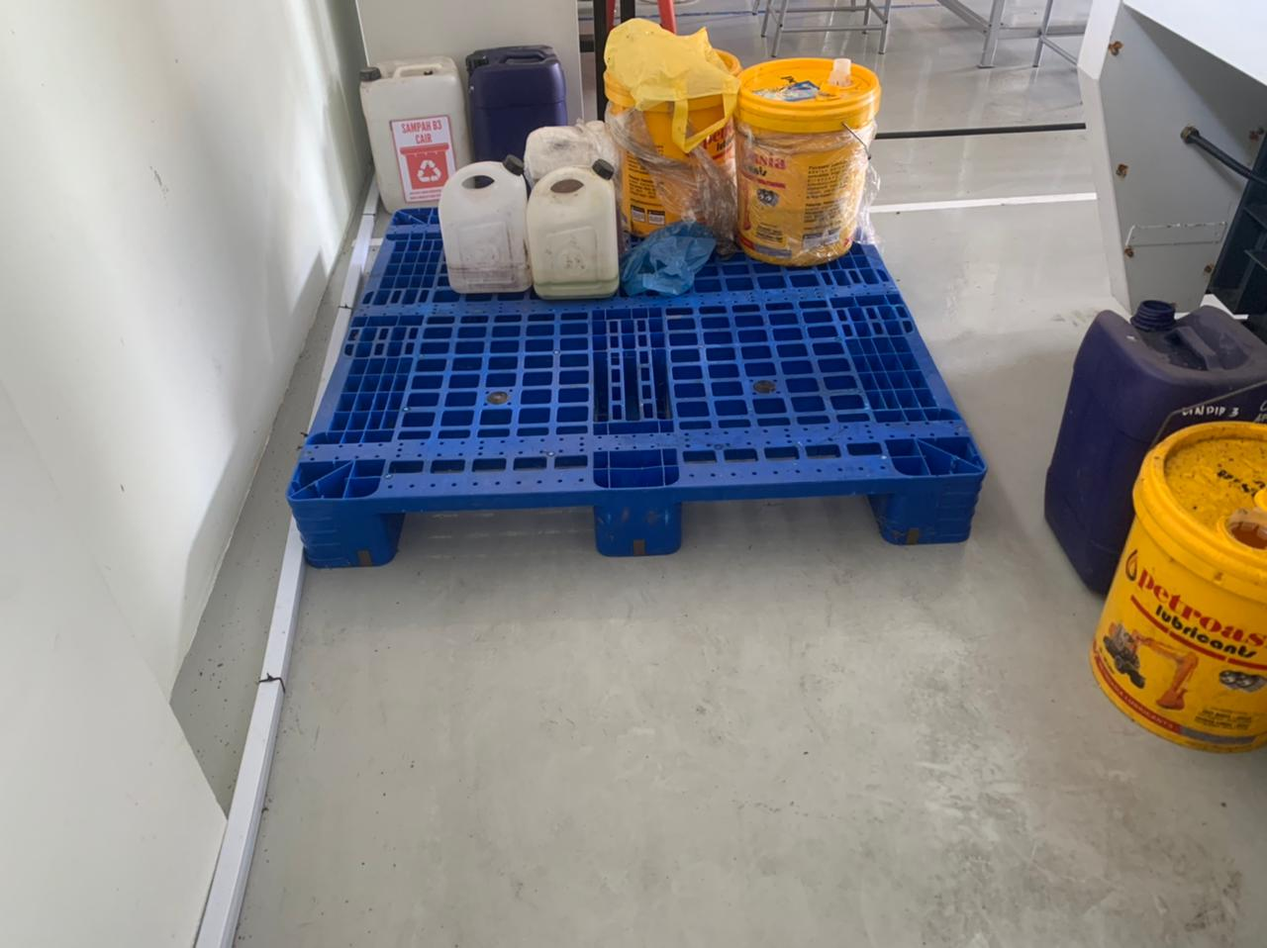block: (882, 476, 982, 551), (292, 495, 392, 566), (597, 485, 680, 557)
front: (287, 474, 989, 565)
hole pallet: (680, 491, 884, 551), (381, 504, 598, 558)
